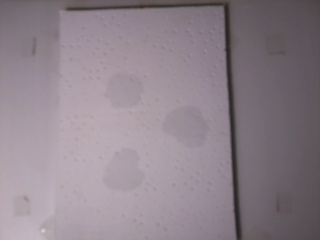Water_detected: (103, 154, 141, 191), (105, 72, 141, 108), (176, 108, 208, 144)
